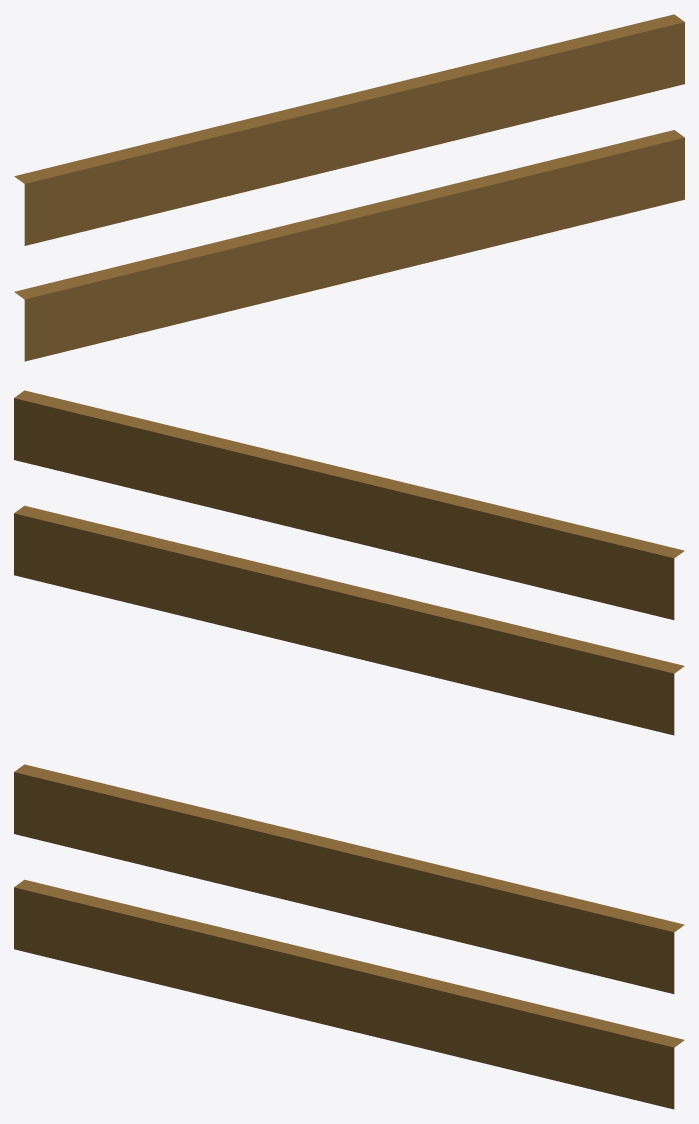
File: Fence_Wood_03.gltf
3 views of the same model, one above another, from view 1: azimuth 30°, elevation 25°; view 2: azimuth 150°, elevation 25°; view 3: azimuth 330°, elevation 25° (orthographic).
Visible parts, largest first — view 1: SF_Prop_Fence_Wood_03; view 2: SF_Prop_Fence_Wood_03; view 3: SF_Prop_Fence_Wood_03.
Boxes of the visible parts, x1,y1,x2,y2 form: SF_Prop_Fence_Wood_03: [14, 14, 684, 361]; SF_Prop_Fence_Wood_03: [14, 390, 684, 735]; SF_Prop_Fence_Wood_03: [14, 764, 684, 1109].
Bounding box in the file's own units: 0.0496 × 0.0127 × 0.00149.
Materials: 1 (1 with a texture image).
